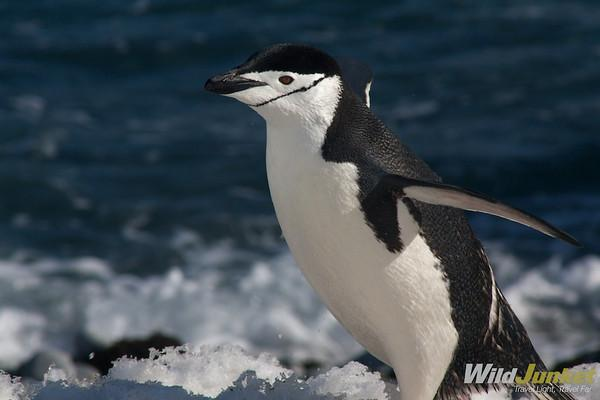chinstrap: (205, 41, 581, 400)
